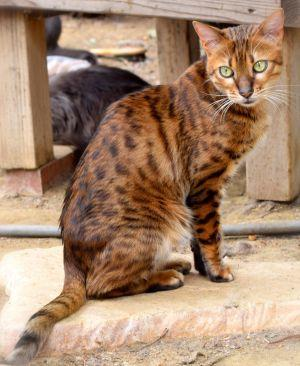bengal: (193, 6, 290, 113)
